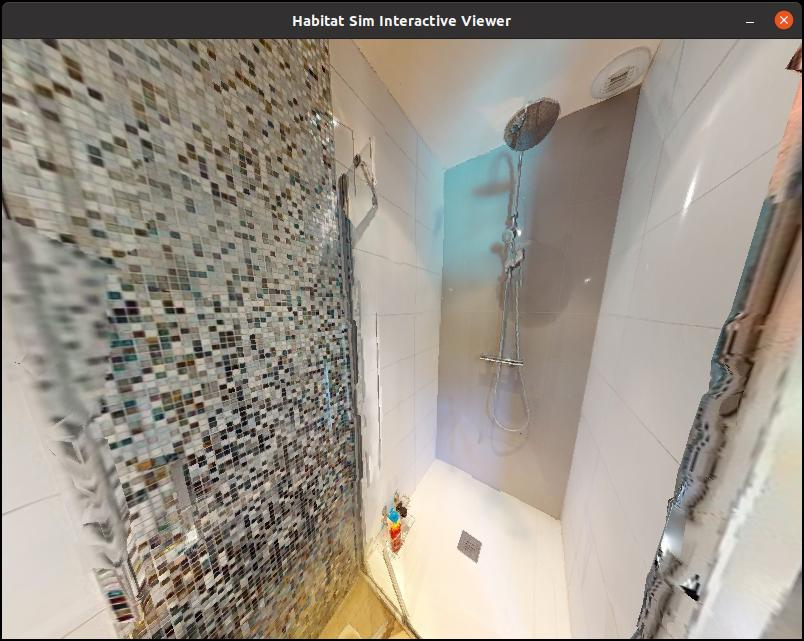shower: (323, 40, 704, 641)
